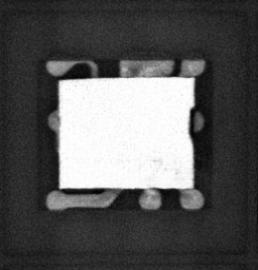DIE_BROKEN: (186, 105, 195, 141)
